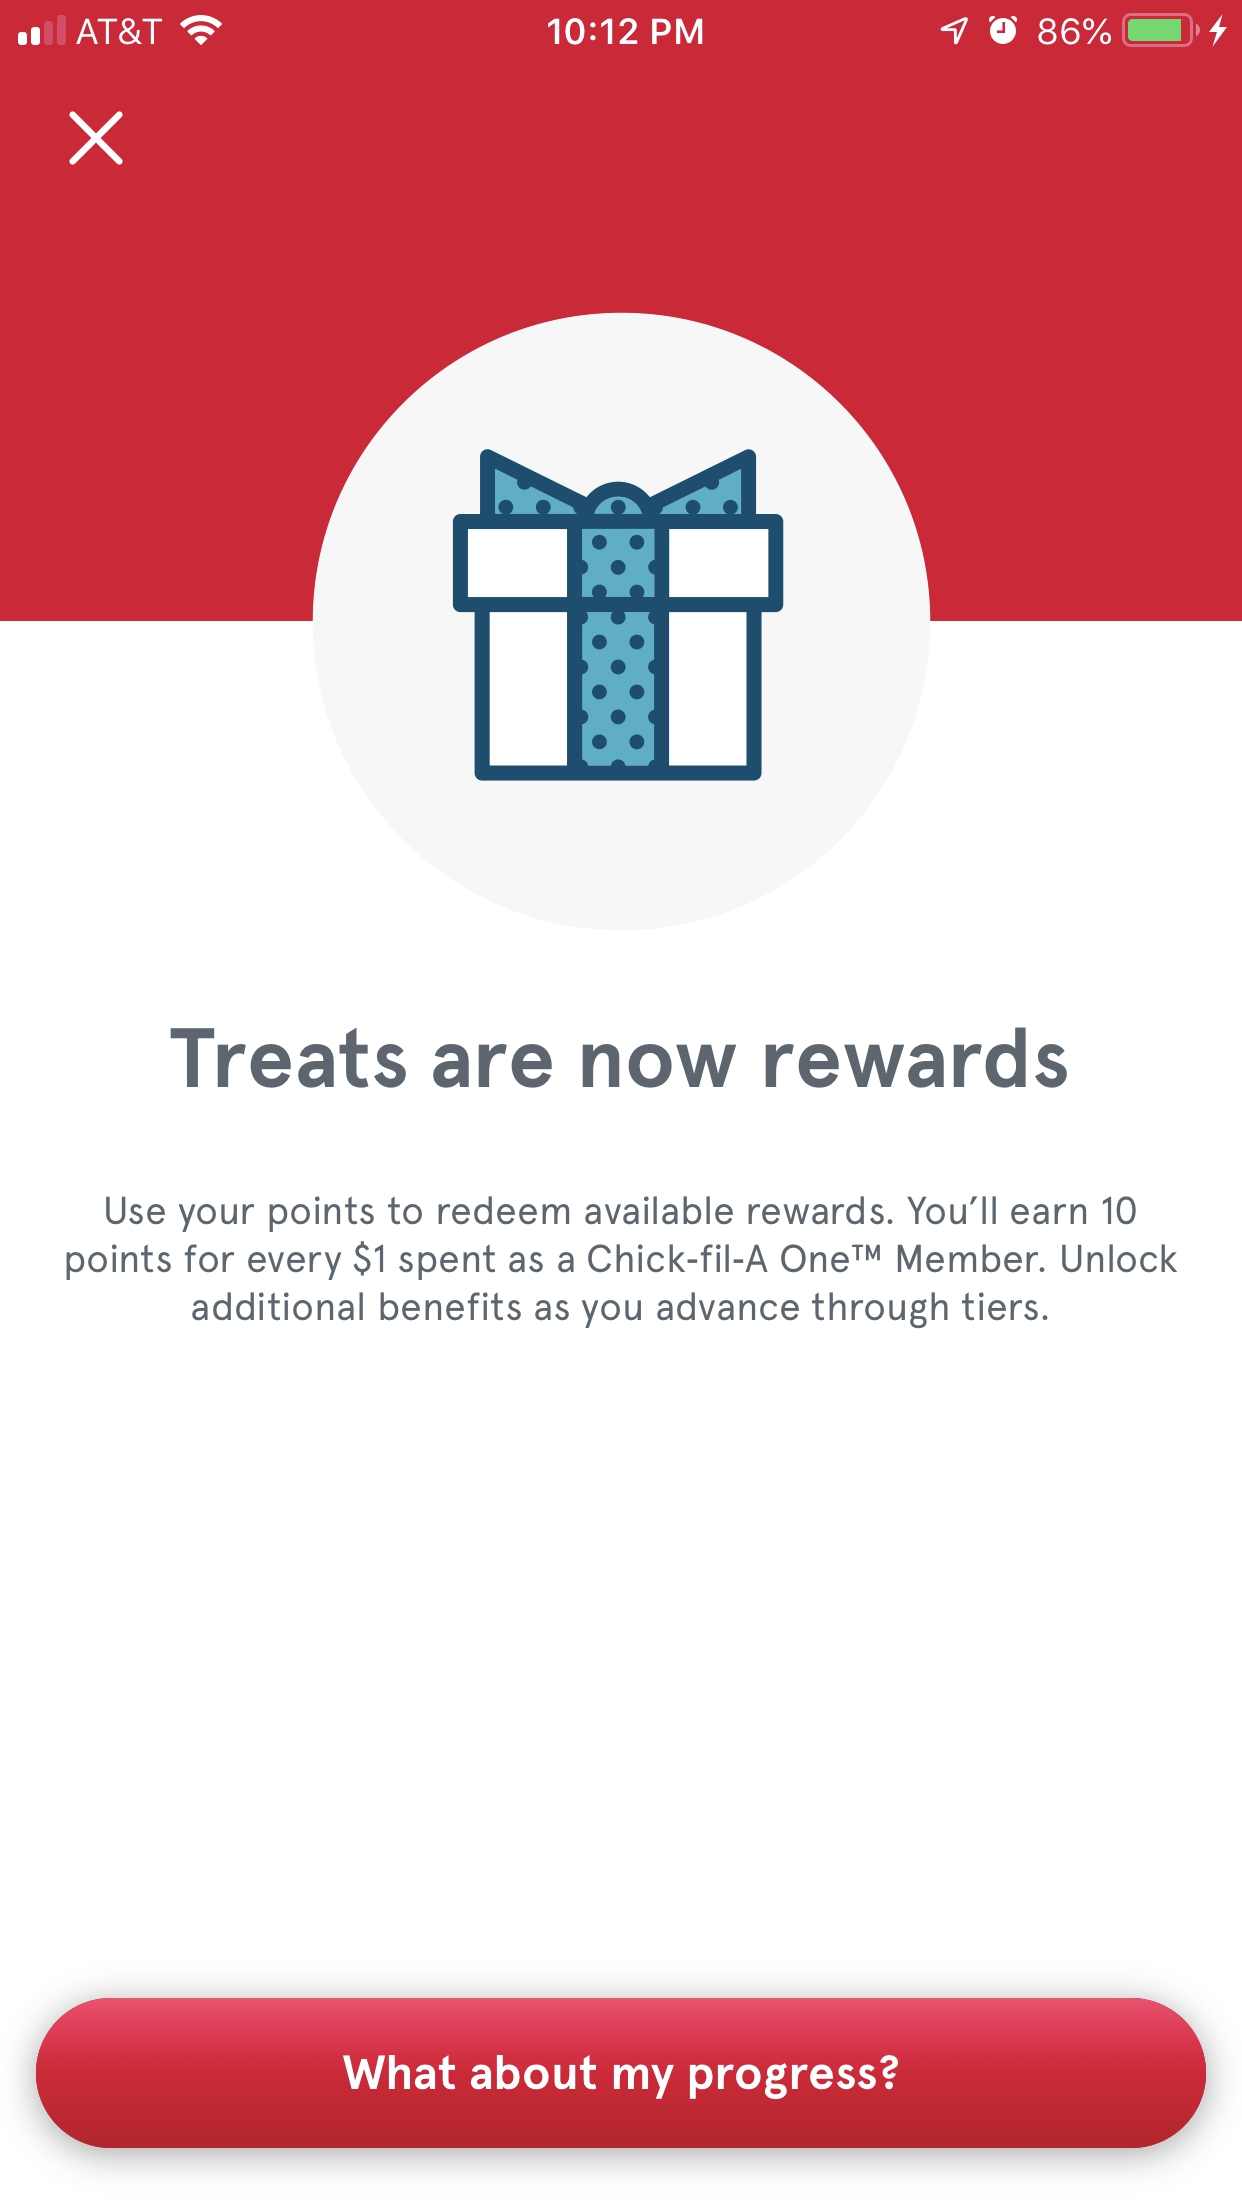Icon: (453, 449, 786, 781), (67, 112, 132, 171)
Text: (65, 1197, 1178, 1328), (168, 1028, 1068, 1090)
TextButton: (36, 1996, 1206, 2149)
UpperTaskBar: (21, 15, 1228, 45)
